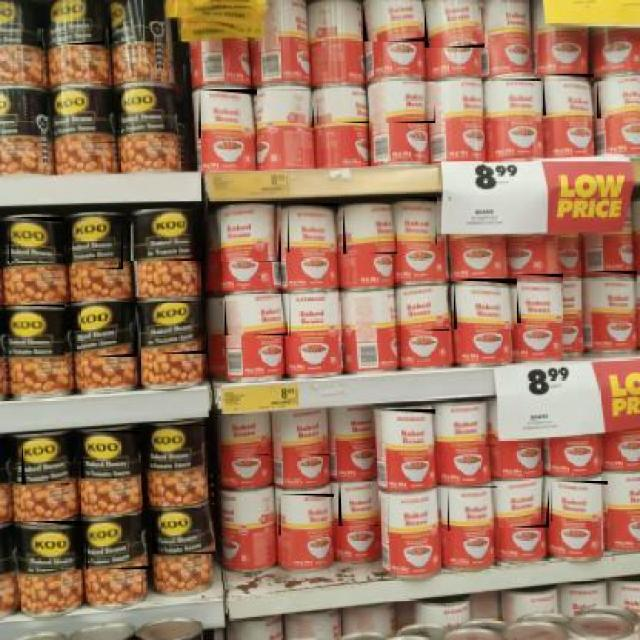Beans: (131, 209, 206, 262), (46, 89, 116, 145), (86, 515, 154, 571), (220, 205, 282, 263), (142, 303, 209, 355), (6, 305, 66, 363), (454, 278, 518, 331), (19, 520, 84, 571), (81, 302, 139, 358), (198, 89, 258, 140), (152, 508, 217, 555), (80, 431, 142, 480), (432, 77, 496, 123), (154, 424, 208, 478), (343, 204, 399, 256), (73, 215, 125, 271), (363, 2, 434, 43), (289, 290, 348, 339), (225, 294, 289, 338), (498, 478, 551, 530), (388, 488, 443, 538), (274, 409, 331, 457), (380, 410, 437, 458), (374, 82, 437, 125), (588, 270, 638, 324), (9, 217, 65, 265), (425, 5, 486, 49), (288, 203, 340, 254), (117, 89, 175, 133), (51, 0, 106, 46), (437, 406, 497, 448), (551, 480, 609, 523), (278, 494, 336, 537), (22, 437, 72, 486), (399, 286, 452, 332), (258, 88, 316, 130), (516, 274, 564, 324), (448, 487, 498, 533), (220, 414, 272, 458), (491, 78, 542, 122), (544, 74, 596, 117), (0, 0, 43, 46), (398, 197, 438, 246), (338, 482, 380, 528), (597, 77, 640, 120), (109, 0, 145, 46), (317, 96, 371, 124)
